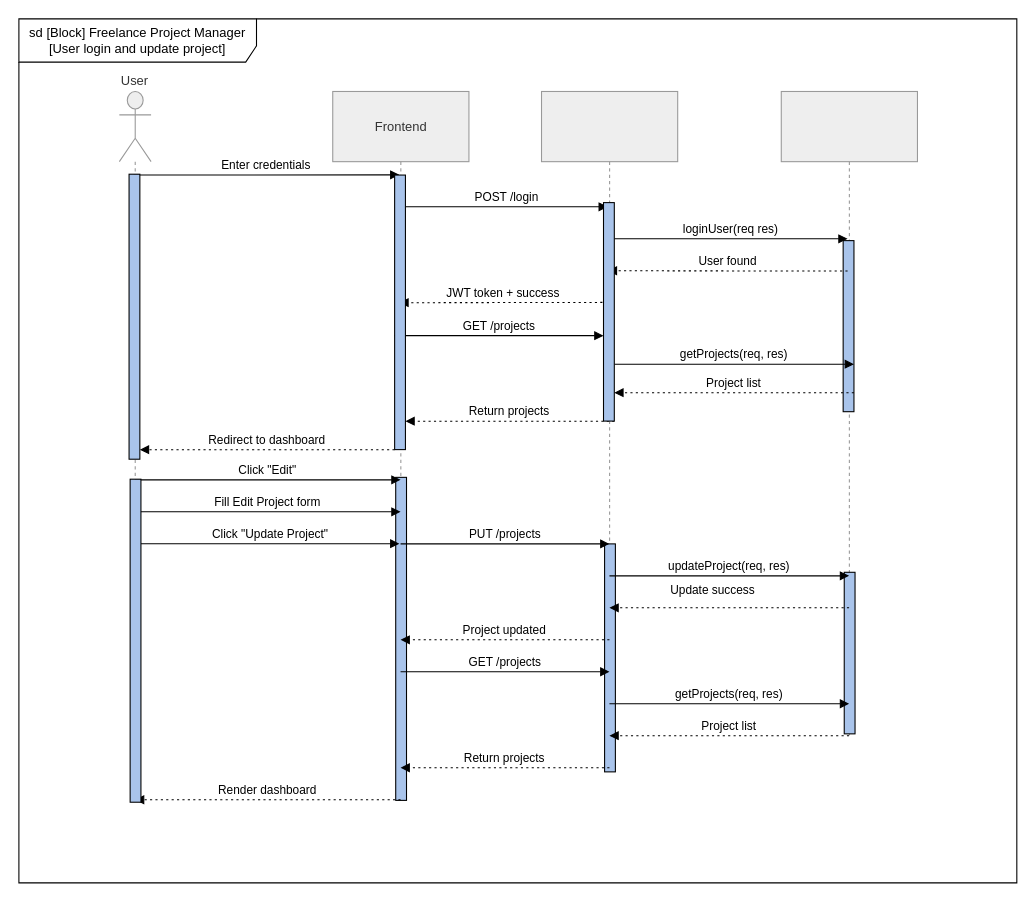
This 1036x902 diagram has some shape labels left out. The box of each missing label's shape, as (x1, y1, x2, y2) in pixels:
Backend: (540, 90, 678, 738)
MongoDB: (780, 90, 917, 738)
